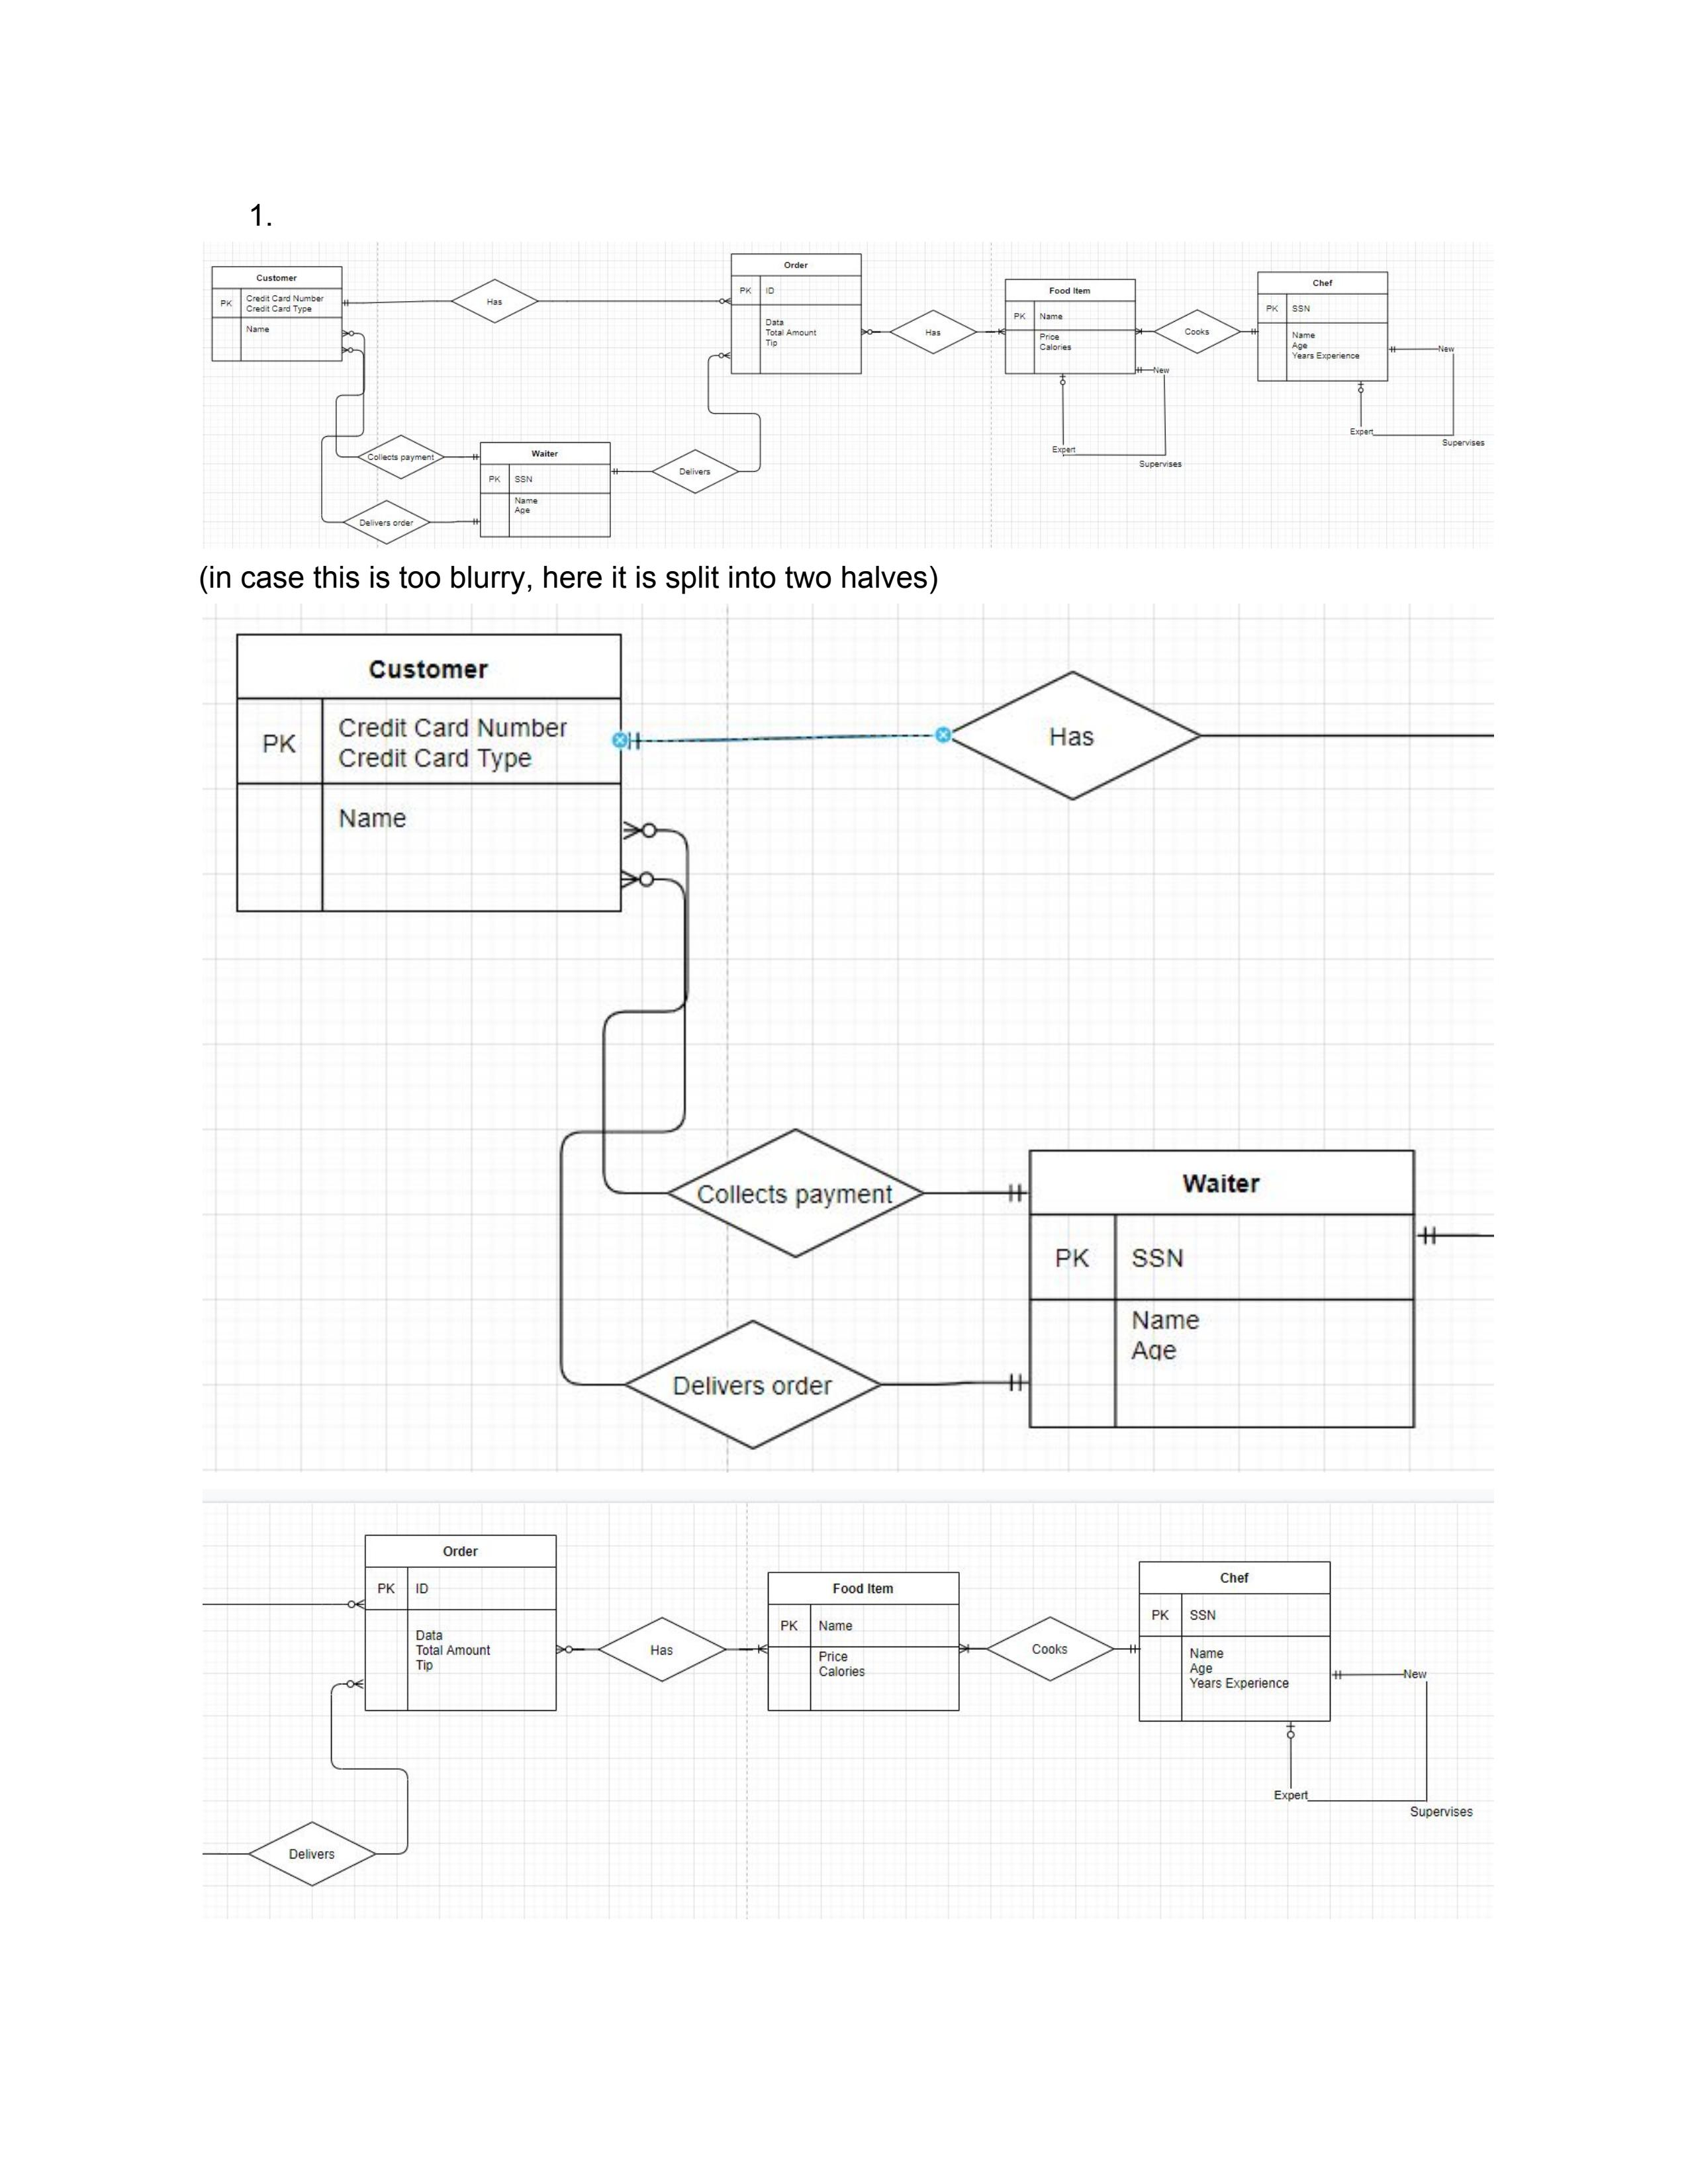Entity: (1027, 1147, 1418, 1432), (234, 631, 624, 915), (362, 1532, 559, 1714), (1138, 1560, 1333, 1725), (766, 1569, 961, 1714), (729, 252, 862, 376), (1255, 269, 1390, 383), (209, 266, 344, 363), (479, 441, 612, 539), (1004, 278, 1137, 376)
Relationship: (945, 668, 1202, 801), (624, 1319, 881, 1452), (667, 1127, 924, 1259), (596, 1615, 727, 1684), (248, 1819, 376, 1886), (986, 1615, 1115, 1681), (1153, 308, 1241, 355), (890, 308, 977, 355), (450, 278, 539, 323), (344, 500, 431, 544), (653, 448, 739, 493), (360, 434, 445, 479)
